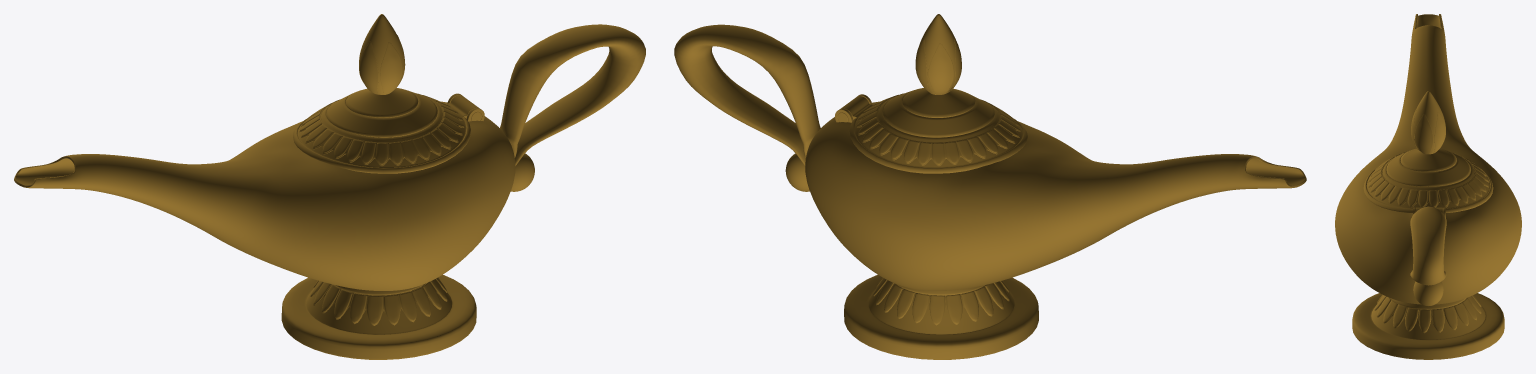
File: aladdin_lamp.obj
The picture shows the model from 3 angles, left to right: view 1: azimuth 30°, elevation 25°; view 2: azimuth 150°, elevation 25°; view 3: azimuth 270°, elevation 25°; orthographic projection. The views are drawn at different scales.
Visible parts, largest first — view 1: obj1; view 2: obj1; view 3: obj1.
Part boxes in pixels (box(x1,y1,x2,y2)): obj1: box(14, 14, 645, 359); obj1: box(674, 14, 1306, 359); obj1: box(1335, 14, 1521, 359).
Bounding box in the file's own units: 0.8817 × 0.4082 × 0.2909.
